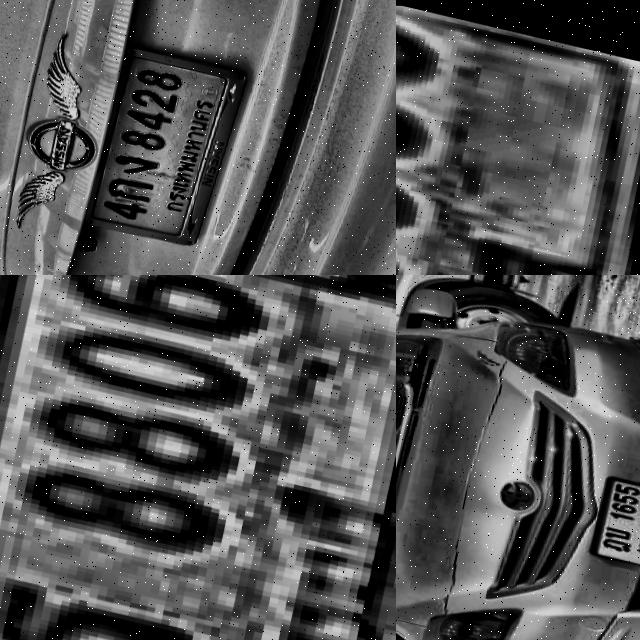license-plate: (0, 275, 396, 640), (396, 0, 640, 275), (79, 38, 253, 252), (587, 468, 640, 570)
